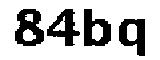4: (46, 7, 83, 51)
8: (7, 8, 46, 48)
b: (83, 5, 112, 51)
q: (118, 13, 148, 60)
